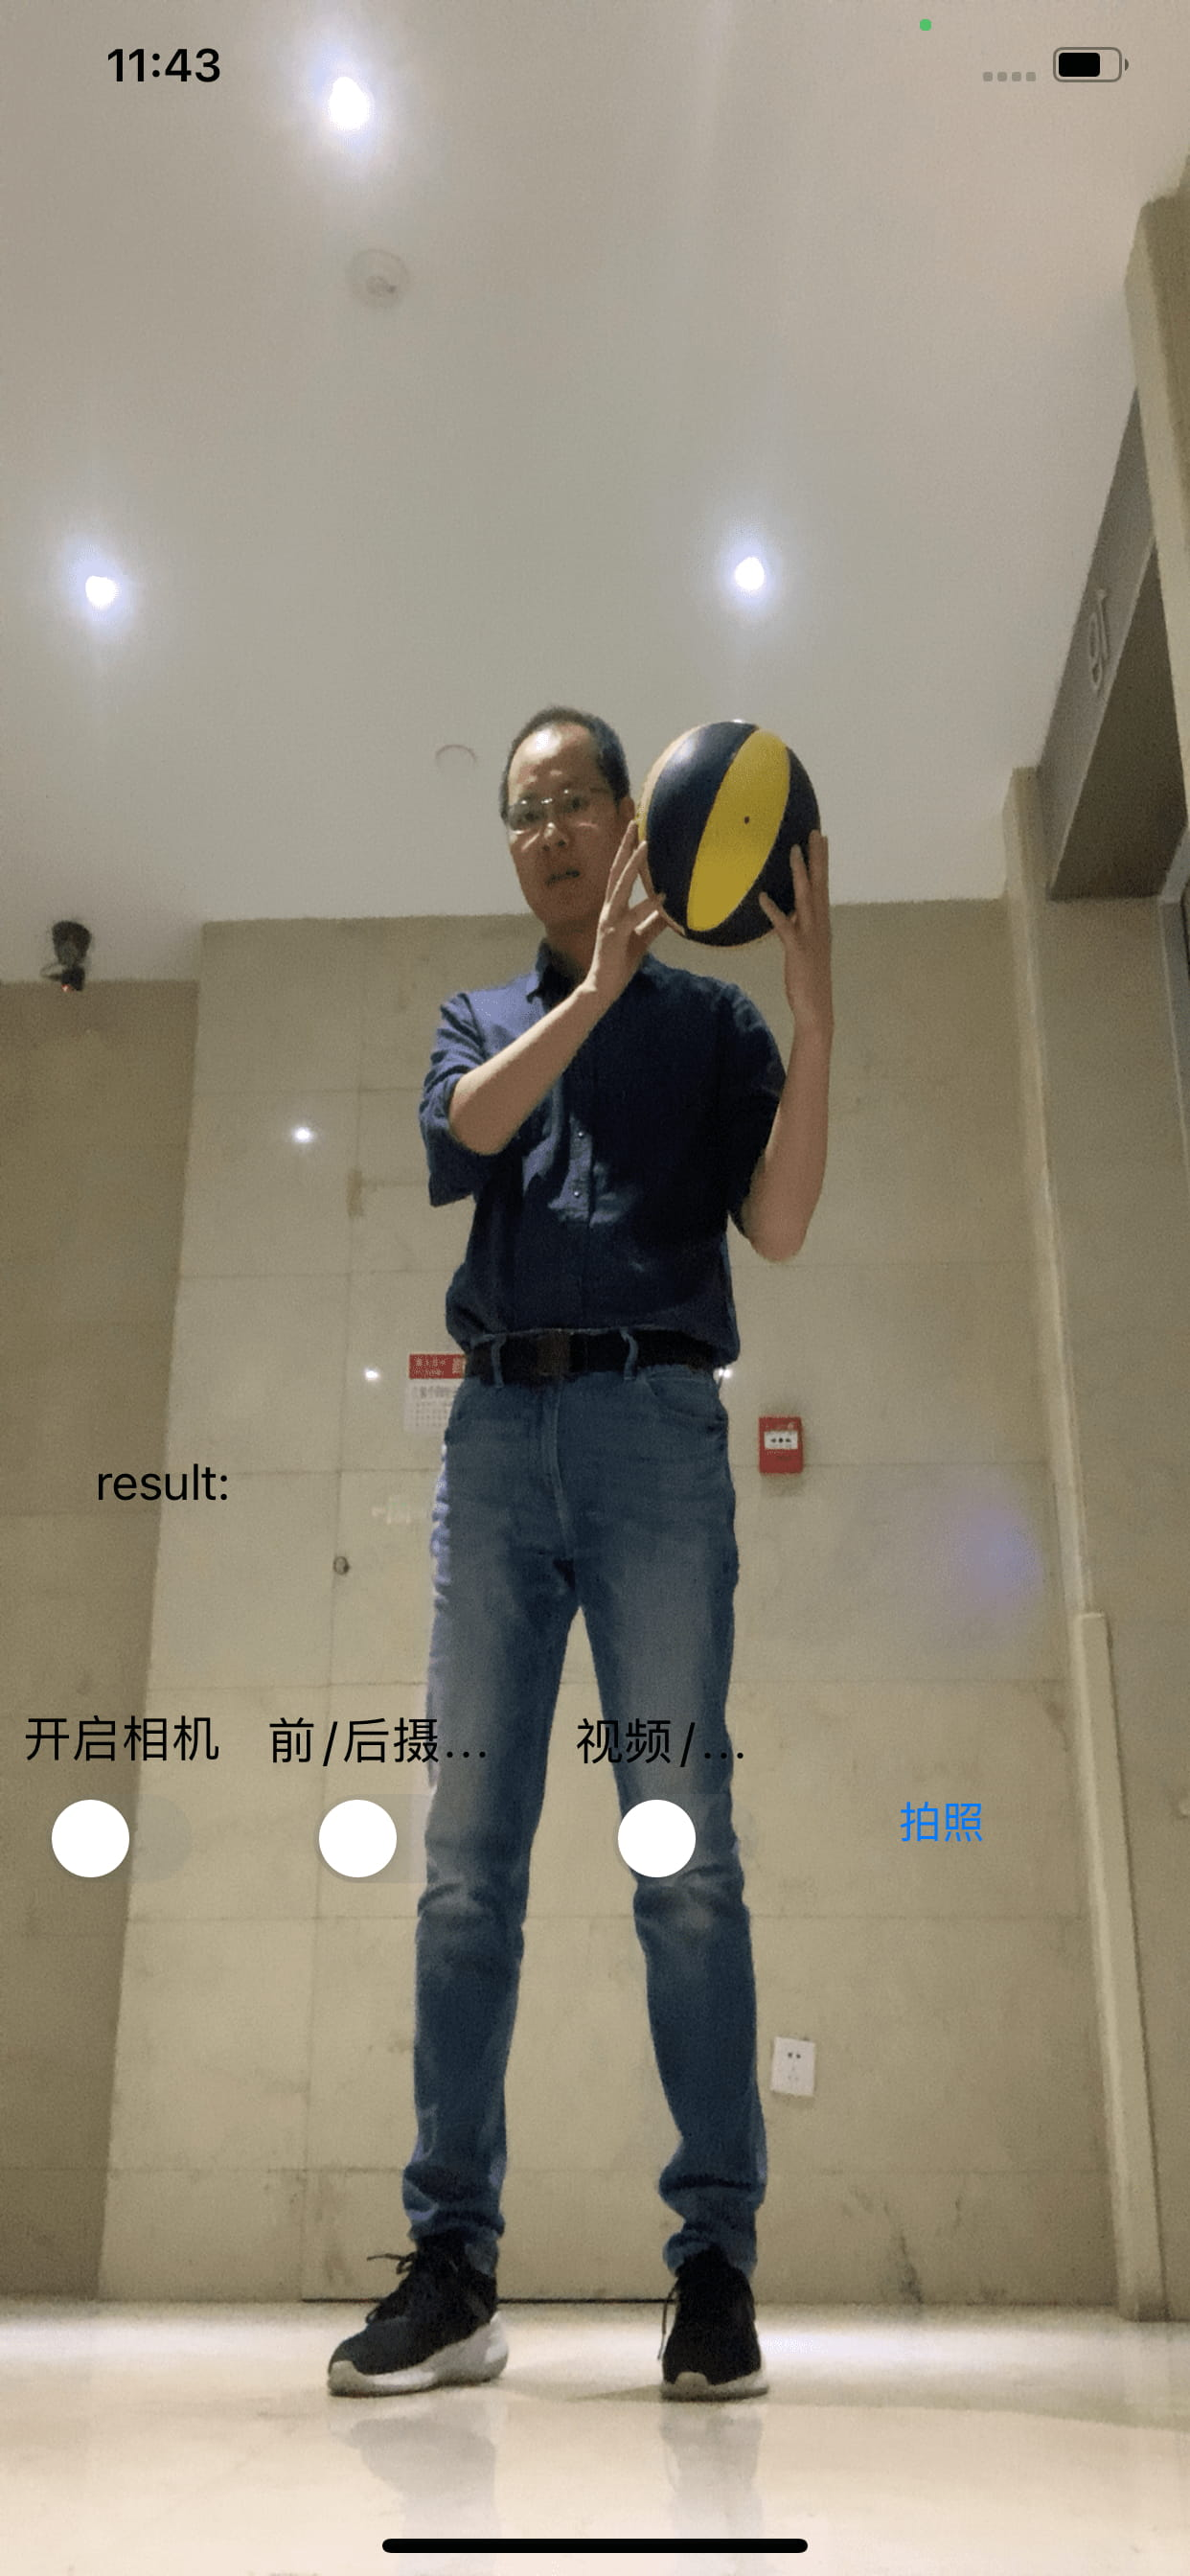ball: (641, 715, 825, 951)
